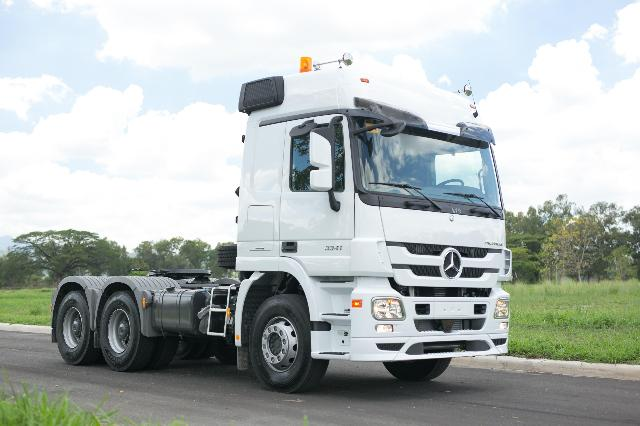truck: (41, 45, 546, 382)
